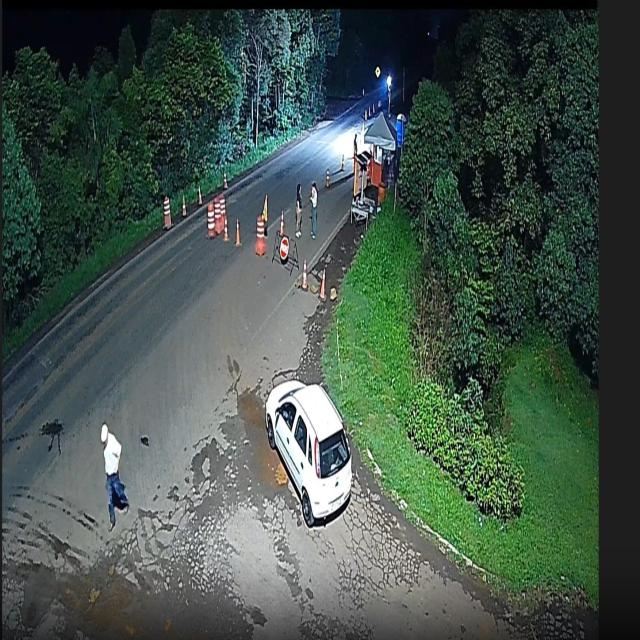big_cone: (163, 194, 172, 228), (256, 216, 264, 254), (207, 203, 215, 236), (214, 198, 221, 234), (220, 194, 225, 233)
small_cone: (320, 268, 326, 298), (303, 259, 307, 289), (222, 171, 228, 189), (224, 218, 228, 244), (236, 219, 240, 245), (280, 210, 284, 236), (182, 195, 186, 217), (198, 185, 202, 205), (326, 168, 330, 188), (341, 153, 344, 171)
stop_sign: (280, 236, 289, 262)
